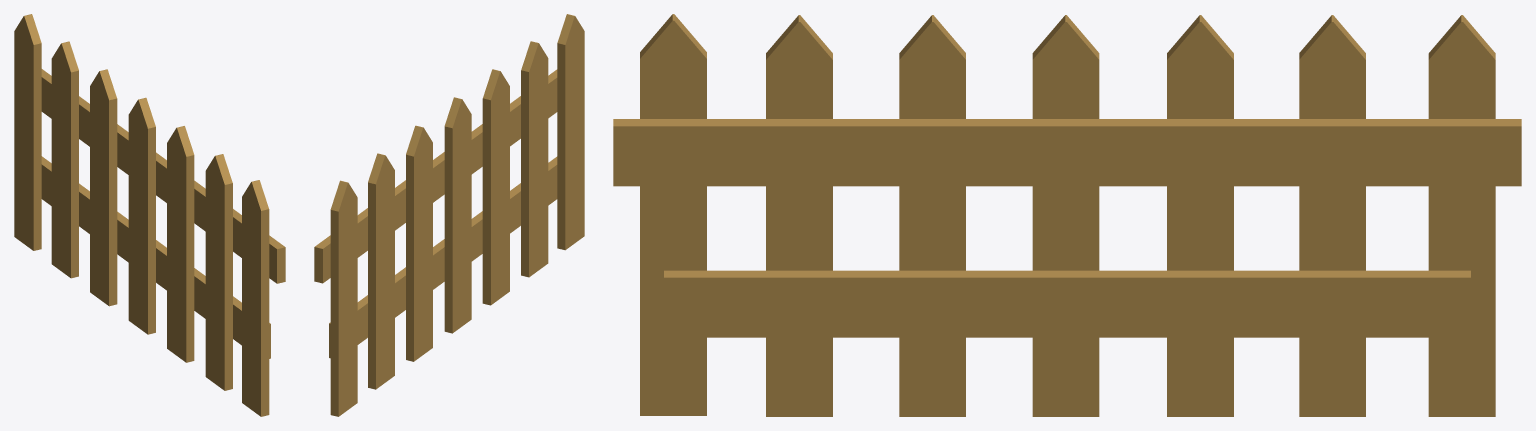
File: fence_1.fbx
3 views of the same model, side by side, from view 1: azimuth 30°, elevation 25°; view 2: azimuth 150°, elevation 25°; view 3: azimuth 270°, elevation 25° (orthographic). The views are drawn at different scales.
Visible parts, largest first — view 1: fence; view 2: fence; view 3: fence.
Boxes of the visible parts, x1=… form: fence: x1=14, y1=14, x2=285, y2=416; fence: x1=314, y1=14, x2=584, y2=416; fence: x1=613, y1=14, x2=1521, y2=416.
Bounding box in the file's own units: 0.17 × 2.22 × 4.61.
